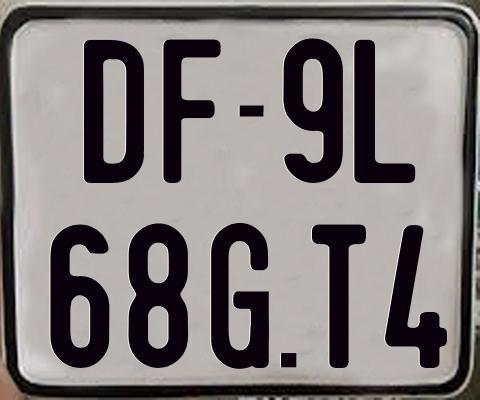4: (384, 223, 449, 371)
6: (49, 222, 109, 367)
8: (128, 221, 193, 366)
9: (282, 35, 348, 181)
D: (84, 39, 145, 184)
F: (160, 38, 222, 188)
G: (210, 223, 271, 374)
L: (354, 38, 420, 186)
T: (310, 223, 368, 368)
